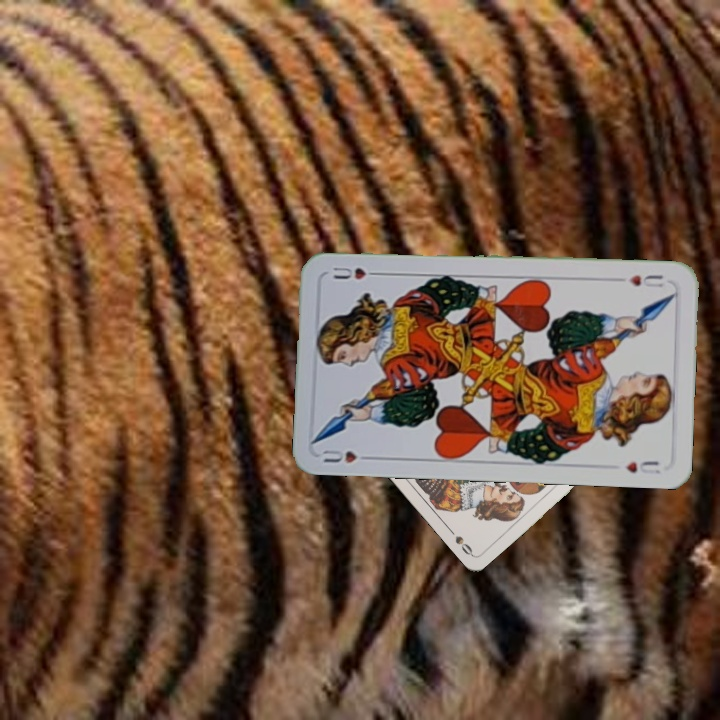HU: (318, 446, 376, 466), (625, 271, 666, 290)
